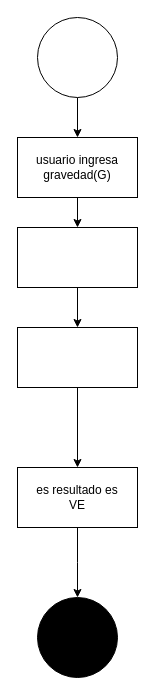
Some shapes in this 155 by 695 pixel diagram are drawn without their labels. Each missing label, with the box of its shape:
usuario ingresa radio (R): (16, 226, 138, 288)
√ 2*G*R (VE): (16, 326, 138, 388)
